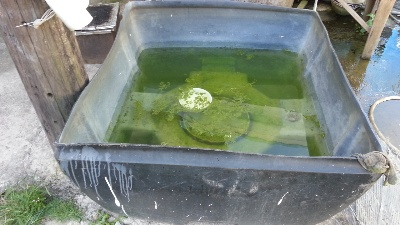box: (51, 1, 389, 224)
